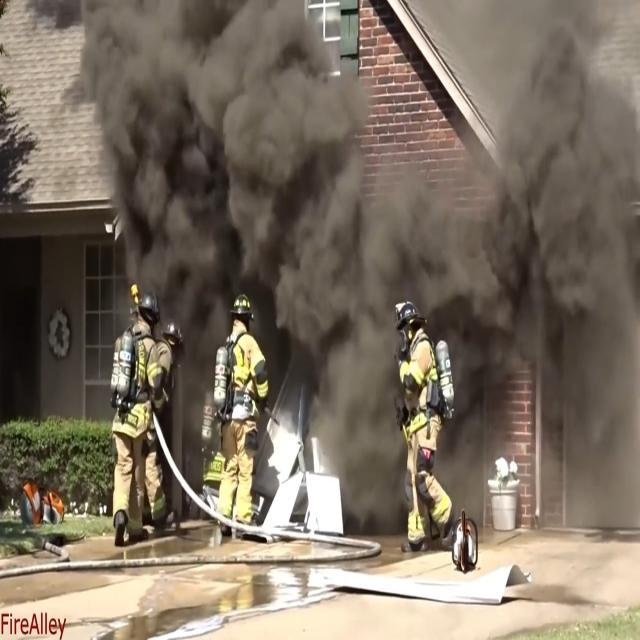Smoke: (100, 11, 408, 296), (512, 100, 640, 344)
